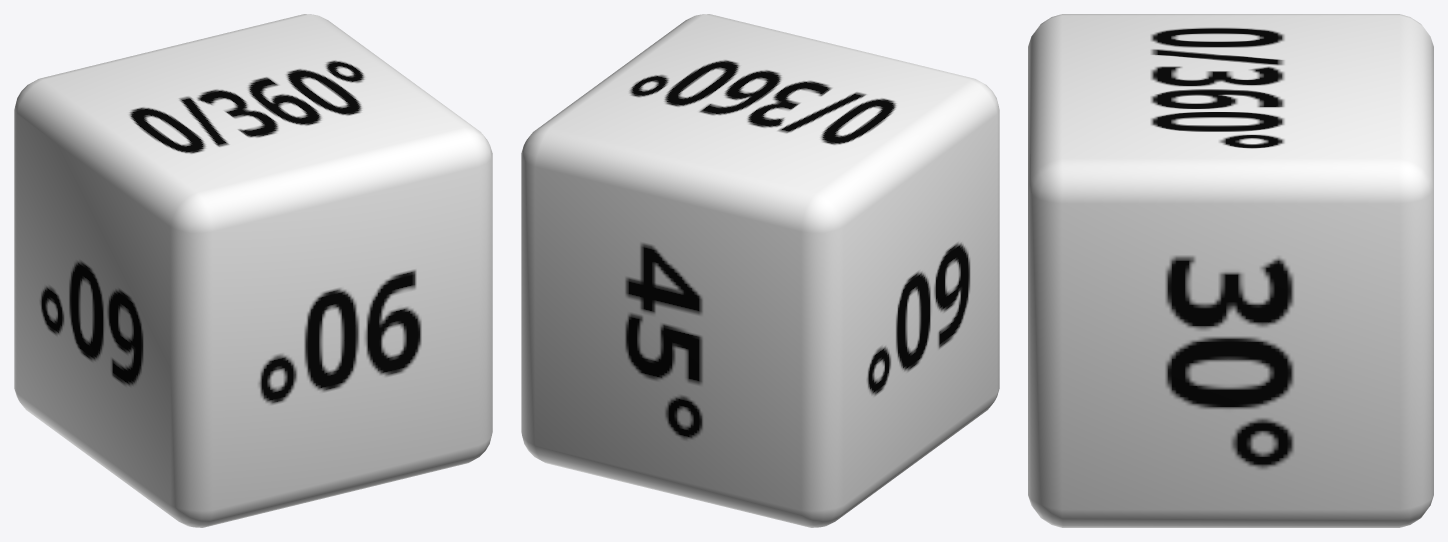
File: dice_deg.fbx
3 renders of one model, left to right at view 1: azimuth 30°, elevation 25°; view 2: azimuth 150°, elevation 25°; view 3: azimuth 270°, elevation 25°, orthographic. The views are drawn at different scales.
Parts seen in each view (by area): view 1: Roundcube; view 2: Roundcube; view 3: Roundcube.
Boxes of the visible parts, box(x1,y1,x2,y2) form: Roundcube: box(14, 14, 492, 527); Roundcube: box(521, 14, 999, 527); Roundcube: box(1028, 14, 1433, 527).
Bounding box in the file's own units: 287 × 287 × 287.
Materials: 1 (1 with a texture image).
